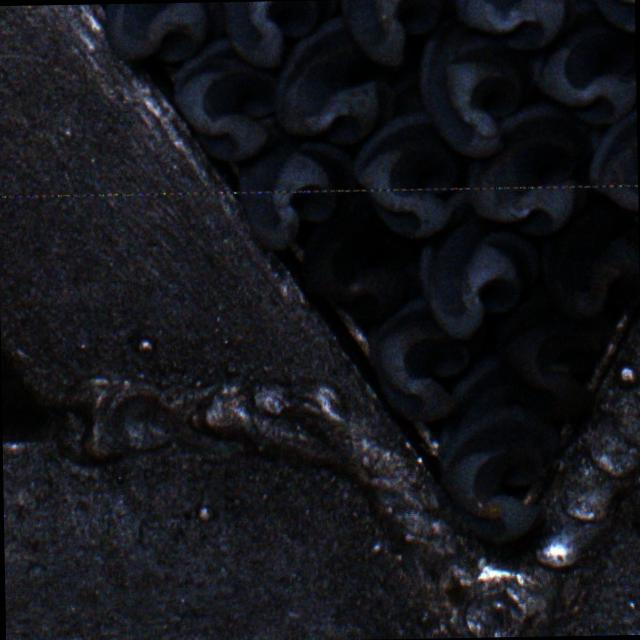tool_b: (433, 350, 559, 538), (274, 15, 398, 144), (416, 216, 542, 340), (491, 283, 606, 416), (414, 21, 524, 156), (296, 208, 418, 322), (168, 36, 278, 160), (529, 0, 636, 125), (366, 294, 471, 420), (540, 194, 640, 321), (465, 101, 595, 186), (350, 112, 460, 190), (222, 0, 340, 65), (104, 1, 228, 62), (341, 0, 457, 63), (232, 136, 355, 190), (236, 190, 350, 248), (467, 186, 588, 236), (453, 0, 578, 48), (580, 0, 635, 33)
